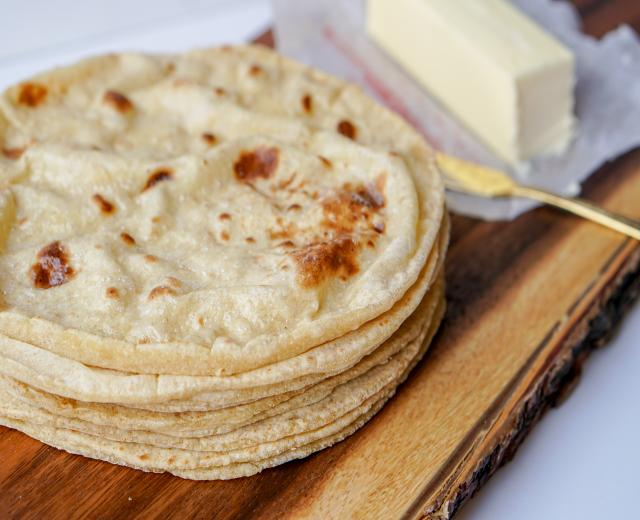chapati: (0, 34, 460, 483), (0, 46, 448, 479)
